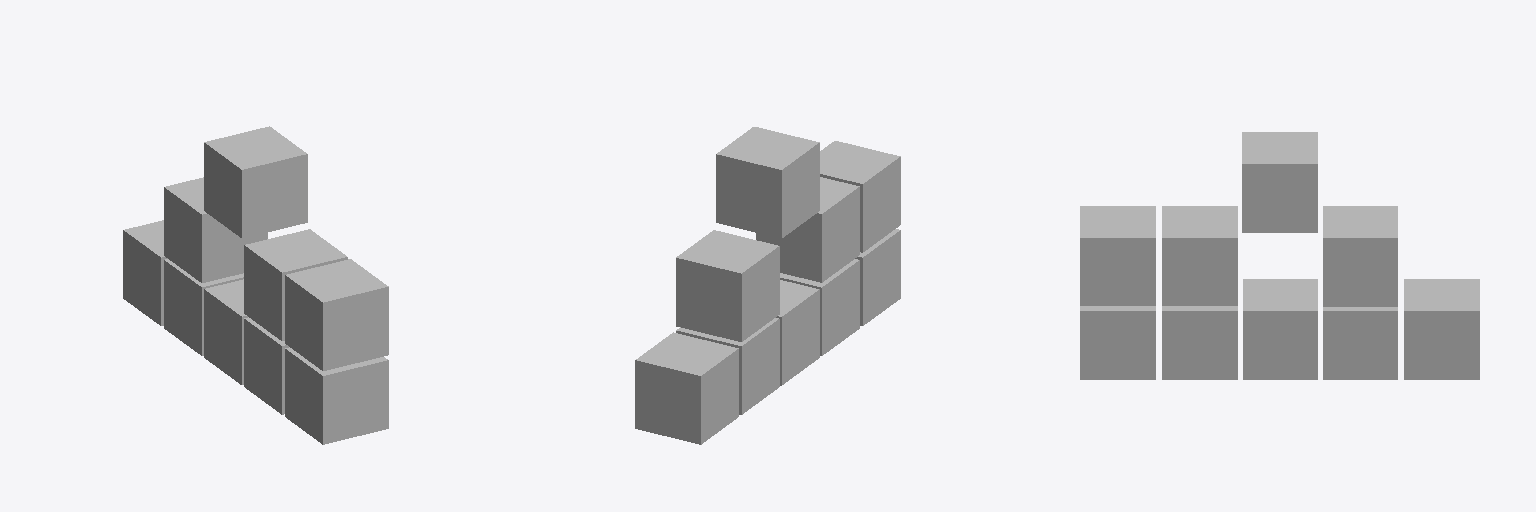
Rendered from SnakeHeadRetro.obj.
The picture shows the model from 3 angles: view 1: azimuth 30°, elevation 25°; view 2: azimuth 150°, elevation 25°; view 3: azimuth 270°, elevation 25°; orthographic projection.
Parts seen in each view (by area): view 1: Cube.002, Cube.008, Cube, Cube.007, Cube.006, Cube.001, Cube.004, Cube.005, Cube.003; view 2: Cube.008, Cube.001, Cube.007, Cube.006, Cube.002, Cube.004, Cube.005, Cube.003, Cube; view 3: Cube.001, Cube.008, Cube.002, Cube.006, Cube.004, Cube.007, Cube, Cube.003, Cube.005.
Part boxes in pixels (left/top/right/bottom): Cube.002: left=285, top=259, right=388, bottom=370; Cube.008: left=204, top=126, right=307, bottom=238; Cube: left=285, top=347, right=388, bottom=444; Cube.007: left=164, top=177, right=267, bottom=282; Cube.006: left=244, top=229, right=347, bottom=340; Cube.001: left=123, top=220, right=167, bottom=325; Cube.004: left=204, top=279, right=247, bottom=384; Cube.005: left=164, top=259, right=243, bottom=355; Cube.003: left=244, top=317, right=288, bottom=414; Cube.008: left=716, top=127, right=819, bottom=238; Cube.001: left=635, top=332, right=738, bottom=444; Cube.007: left=676, top=230, right=779, bottom=341; Cube.006: left=756, top=177, right=859, bottom=282; Cube.002: left=820, top=141, right=900, bottom=252; Cube.004: left=776, top=280, right=819, bottom=385; Cube.005: left=676, top=318, right=779, bottom=414; Cube.003: left=780, top=259, right=859, bottom=355; Cube: left=855, top=229, right=900, bottom=325; Cube.001: left=1404, top=279, right=1479, bottom=379; Cube.008: left=1242, top=132, right=1317, bottom=232; Cube.002: left=1080, top=206, right=1155, bottom=305; Cube.006: left=1162, top=206, right=1237, bottom=305; Cube.004: left=1243, top=279, right=1317, bottom=379; Cube.007: left=1323, top=206, right=1397, bottom=306; Cube: left=1080, top=306, right=1155, bottom=379; Cube.003: left=1162, top=306, right=1237, bottom=379; Cube.005: left=1323, top=307, right=1397, bottom=379.
Size of the model in its own units: 2 by 6.27 by 10.53.